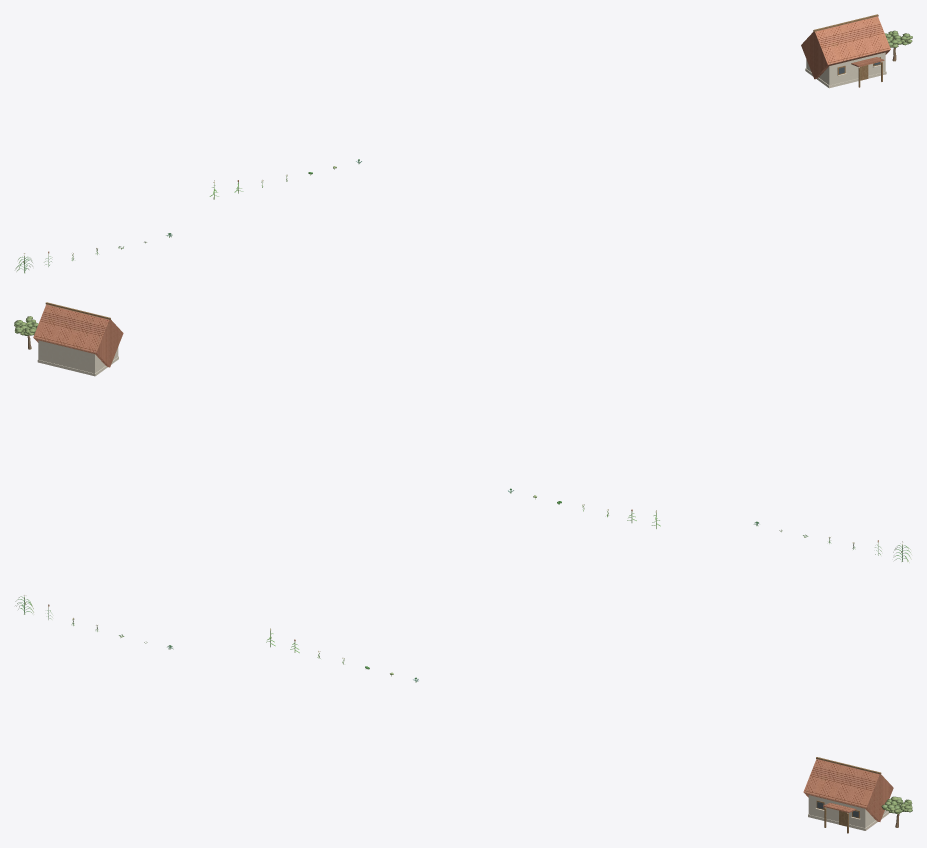
File: bajio.glb
3 views of the same model, one above another, from view 1: azimuth 30°, elevation 25°; view 2: azimuth 150°, elevation 25°; view 3: azimuth 330°, elevation 25° (orthographic).
Parts seen in each view (by area): view 1: casa; view 2: casa; view 3: casa.
Part boxes in pixels (<box>): casa: <box>801,14,890,88</box>; casa: <box>33,302,123,376</box>; casa: <box>803,757,893,833</box>.
Bounding box in the file's own units: 111 × 6.1 × 10.46.
Materials: 16 (16 with a texture image).
